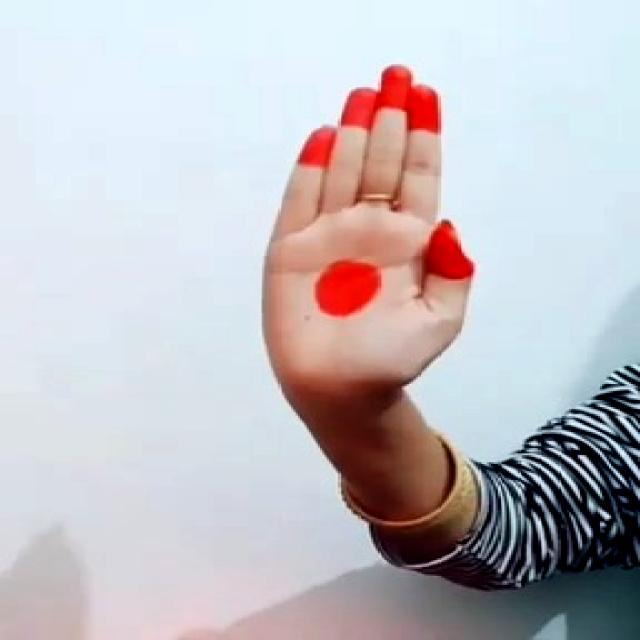Pataka: (227, 38, 524, 390)
bangle: (319, 432, 498, 539)
